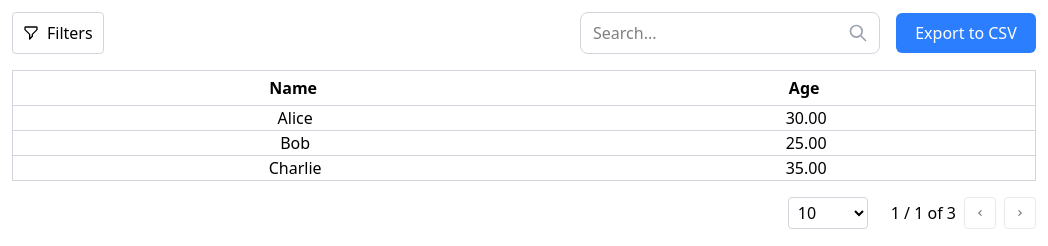
it: Table component › Client mode › filters table data using global search input
Type "Bob" into the field with placeholder "Search...". click: (730, 33)
box: [580,12,880,54]
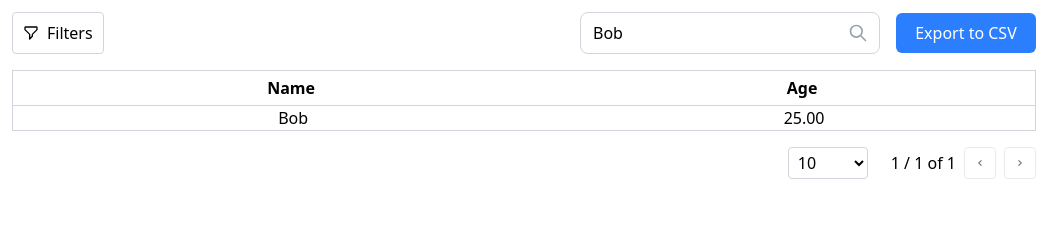
Expected: the text "Bob" is shown, [12,106,573,130]
Result: the text "Alice" is gone
Result: the text "Charlie" is gone
